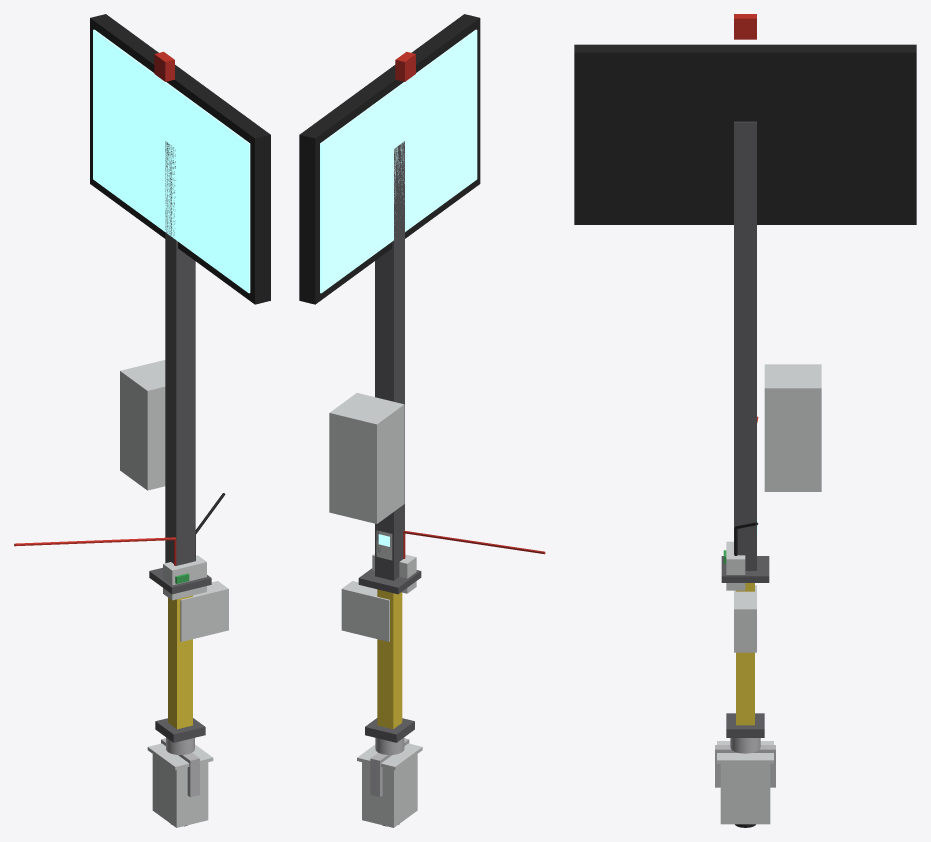
The model's file is SM_ShortCircuitDetection.fbx.
3 views of the same model, side by side, from view 1: azimuth 30°, elevation 25°; view 2: azimuth 150°, elevation 25°; view 3: azimuth 270°, elevation 25° (orthographic). The views are drawn at different scales.
Visible parts, largest first — view 1: SCD_RowDisplay, SCD_IRBoom, SCD_IRHead, SCD_CellSensor; view 2: SCD_RowDisplay, SCD_IRBoom, SCD_IRHead, SCD_CellSensor; view 3: SCD_RowDisplay, SCD_IRHead, SCD_IRBoom, SCD_CellSensor.
Boxes of the visible parts, <box> form: SCD_RowDisplay: <box>90,14,270,565</box>; SCD_IRBoom: <box>149,567,228,742</box>; SCD_IRHead: <box>147,737,213,827</box>; SCD_CellSensor: <box>14,493,225,600</box>; SCD_RowDisplay: <box>299,14,480,580</box>; SCD_IRBoom: <box>341,568,421,742</box>; SCD_IRHead: <box>357,737,422,827</box>; SCD_CellSensor: <box>372,530,545,593</box>; SCD_RowDisplay: <box>574,14,916,570</box>; SCD_IRHead: <box>715,738,775,827</box>; SCD_IRBoom: <box>721,556,769,737</box>; SCD_CellSensor: <box>723,416,758,590</box>.
Size of the model in its own units: 133 by 463 by 180.
